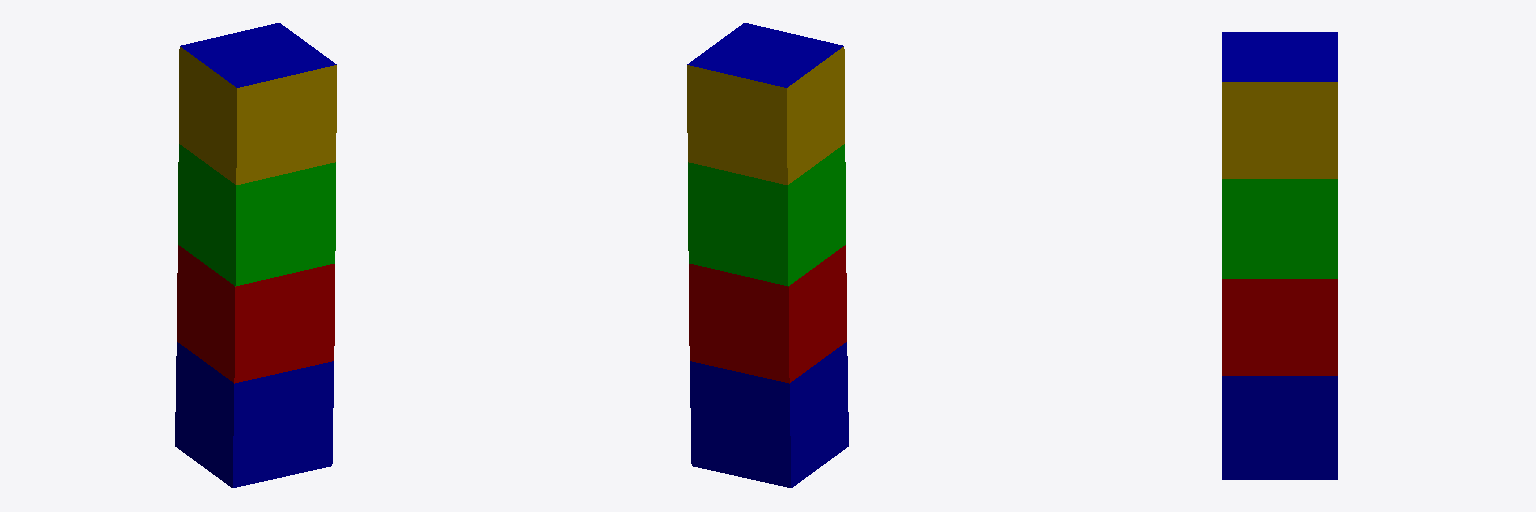
File: Animation_000081.obj
3 views of the same model, side by side, from view 1: azimuth 30°, elevation 25°; view 2: azimuth 150°, elevation 25°; view 3: azimuth 270°, elevation 25° (orthographic).
Visible parts, largest first — view 1: Cube; view 2: Cube; view 3: Cube.
Boxes of the visible parts, <box> form: Cube: <box>175,23,336,487</box>; Cube: <box>687,23,848,487</box>; Cube: <box>1222,32,1337,479</box>.
Size of the model in its own units: 1.39 by 5.11 by 1.33.